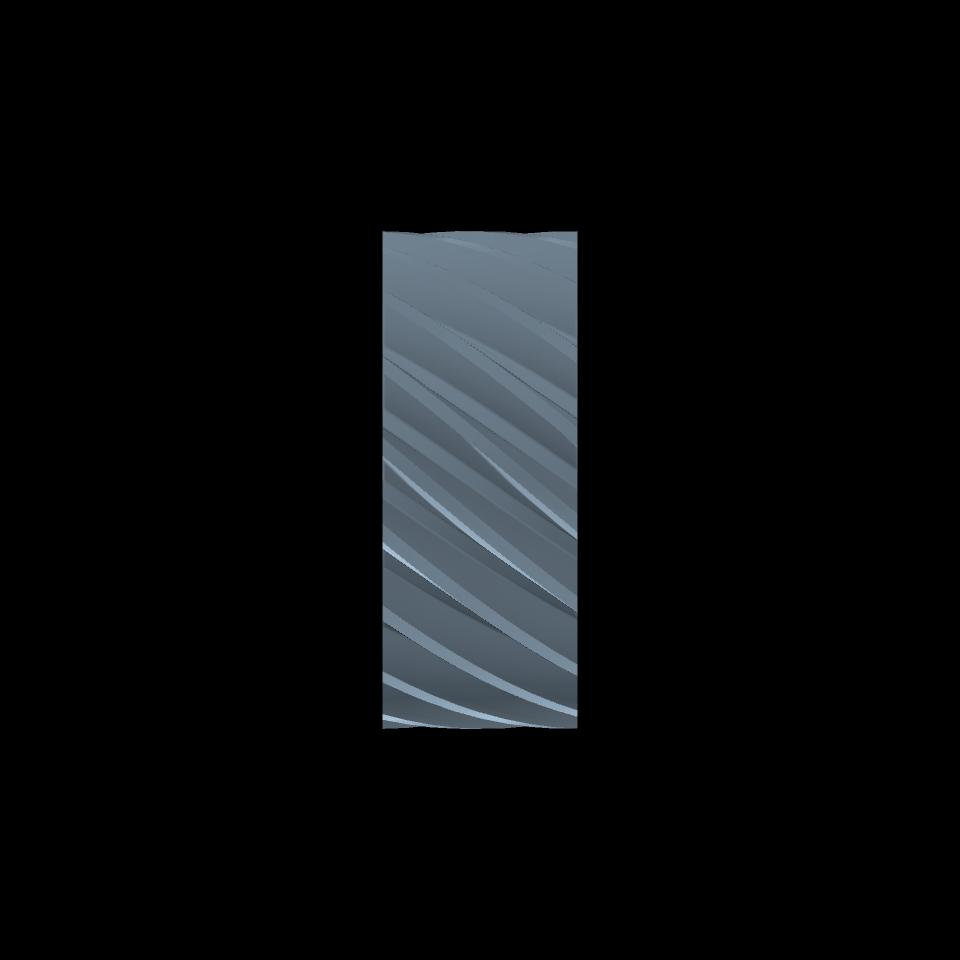Helical: (382, 231, 578, 727)
